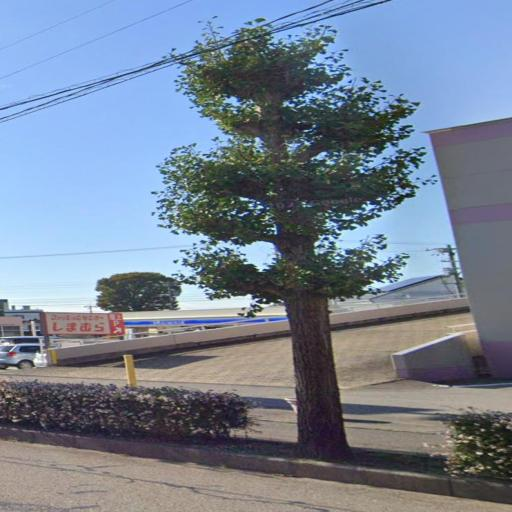Roads: (15, 307, 493, 511)
Trees: (171, 19, 420, 464)
